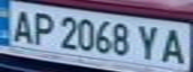0: (75, 16, 96, 53)
2: (54, 13, 78, 51)
6: (93, 18, 115, 55)
8: (109, 20, 133, 57)
A: (157, 25, 190, 65), (6, 7, 36, 44)
P: (27, 8, 57, 46)
Y: (133, 22, 163, 61)
